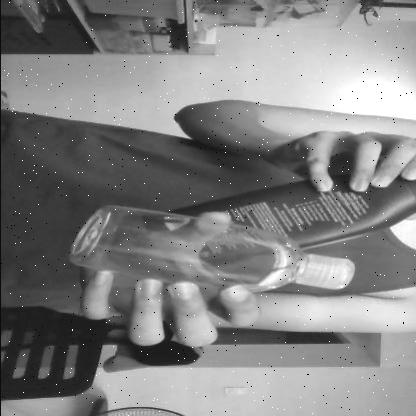Plastic Bottle: (65, 204, 355, 292)
